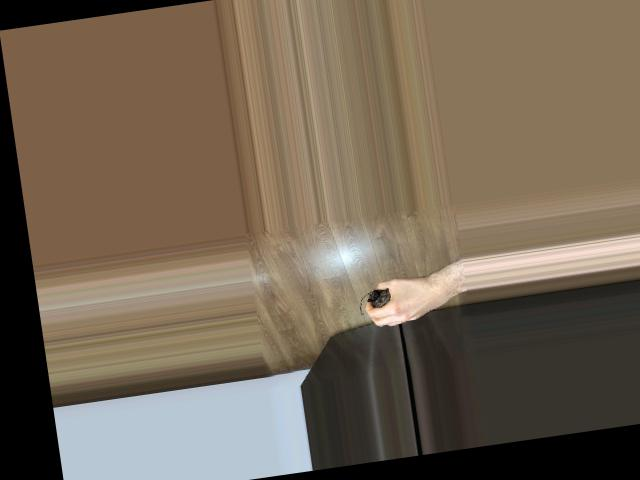beet: (356, 287, 392, 315)
